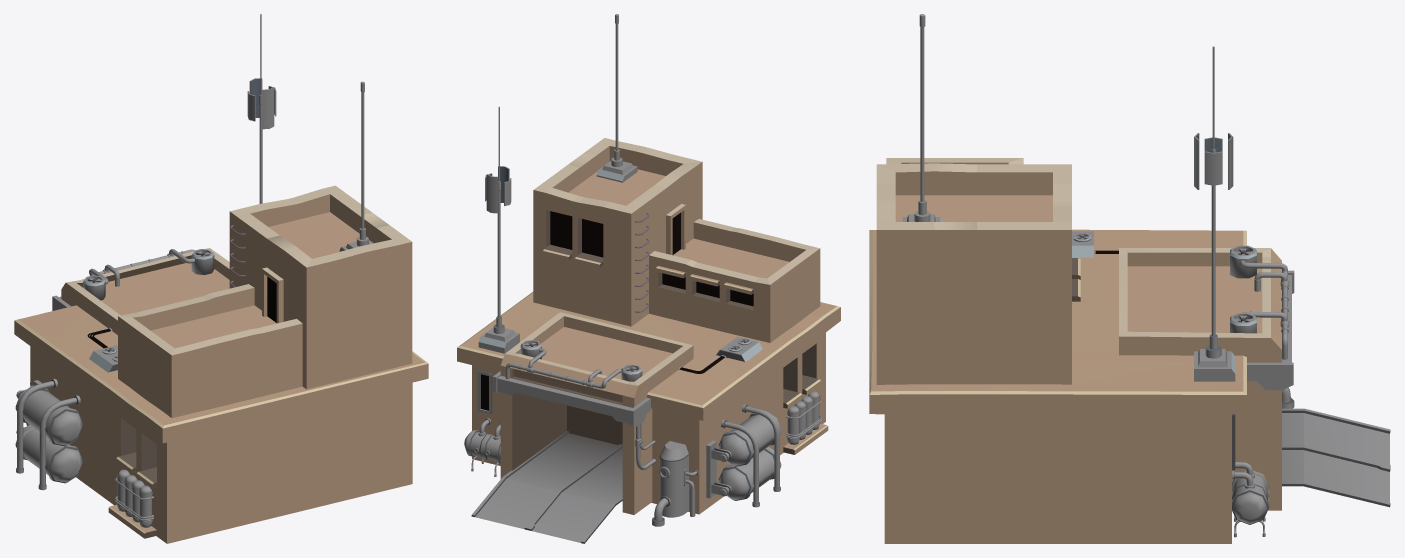
The model's file is HOUSE_1.fbx.
3 views of the same model, side by side, from view 1: azimuth 30°, elevation 25°; view 2: azimuth 150°, elevation 25°; view 3: azimuth 270°, elevation 25° (orthographic). The views are drawn at different scales.
Visible parts, largest first — view 1: Desert_Warehause; view 2: Desert_Warehause; view 3: Desert_Warehause.
Part boxes in pixels (box(x1,y1,x2,y2)): Desert_Warehause: box(14, 14, 428, 543); Desert_Warehause: box(457, 14, 840, 543); Desert_Warehause: box(869, 14, 1390, 543).
Size of the model in its own units: 760 by 988 by 915.
